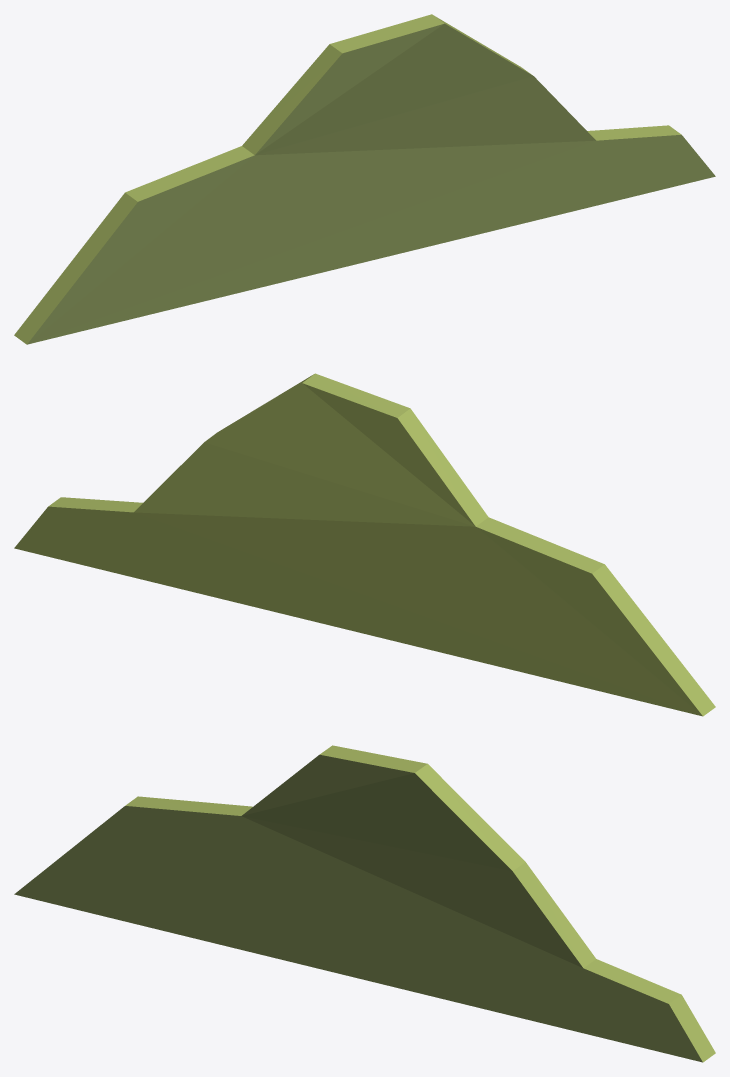
File: Wh_Moss_03.fbx
3 renders of one model, top to bottom at view 1: azimuth 30°, elevation 25°; view 2: azimuth 150°, elevation 25°; view 3: azimuth 330°, elevation 25°, orthographic.
Visible parts, largest first — view 1: Plane.597; view 2: Plane.597; view 3: Plane.597.
Boxes of the visible parts, left/top/right/bottom form: Plane.597: left=14, top=14, right=715, bottom=344; Plane.597: left=14, top=373, right=715, bottom=716; Plane.597: left=14, top=745, right=715, bottom=1062.
Size of the model in its own units: 114 by 35.83 by 6.11.
